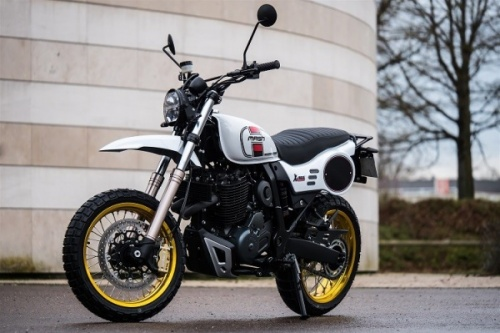motorcycle: (63, 3, 379, 321)
